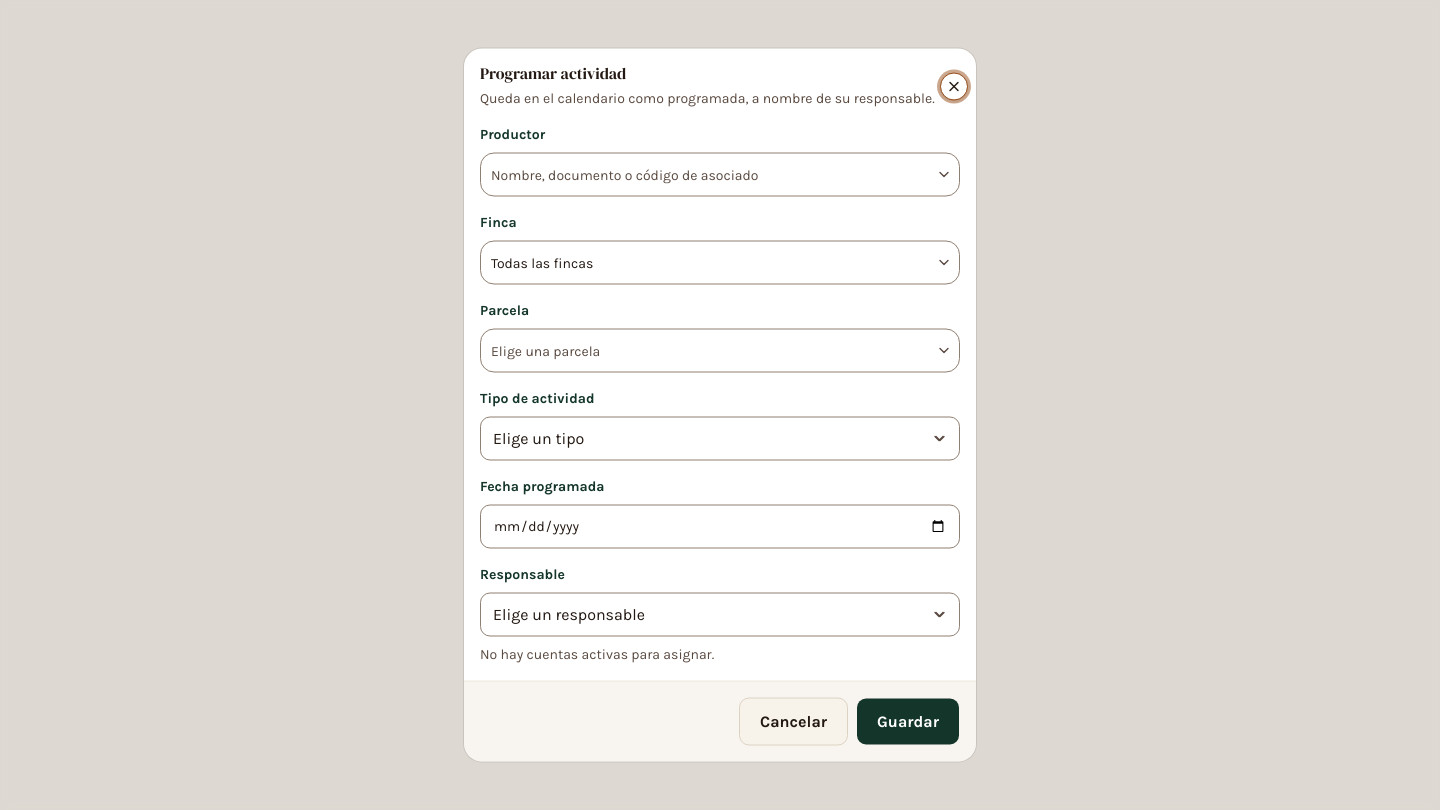
ActivityFormDialog for the technical account › forgets the farm, the plot and the responsible when the producer is cleared
What coordinates should you click on to do the following:
click the dropdown labelled "Productor"
I would click on:
 (706, 174)
Its box is [481,158,932,190].
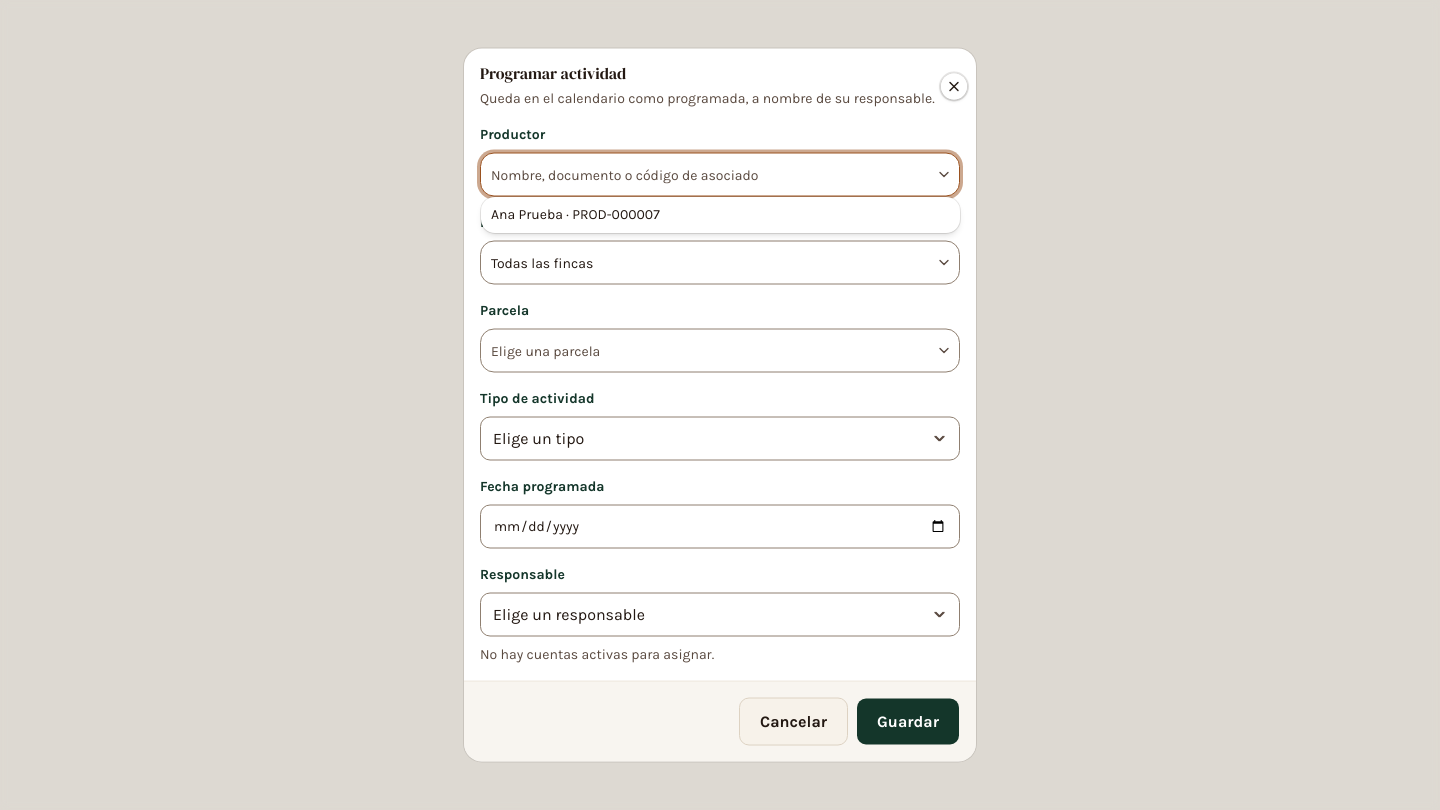
What coordinates should you click on to do the following:
click the option "Ana Prueba · PROD-000007"
I would click on:
 (575, 214)
Its box is [491,206,660,223].
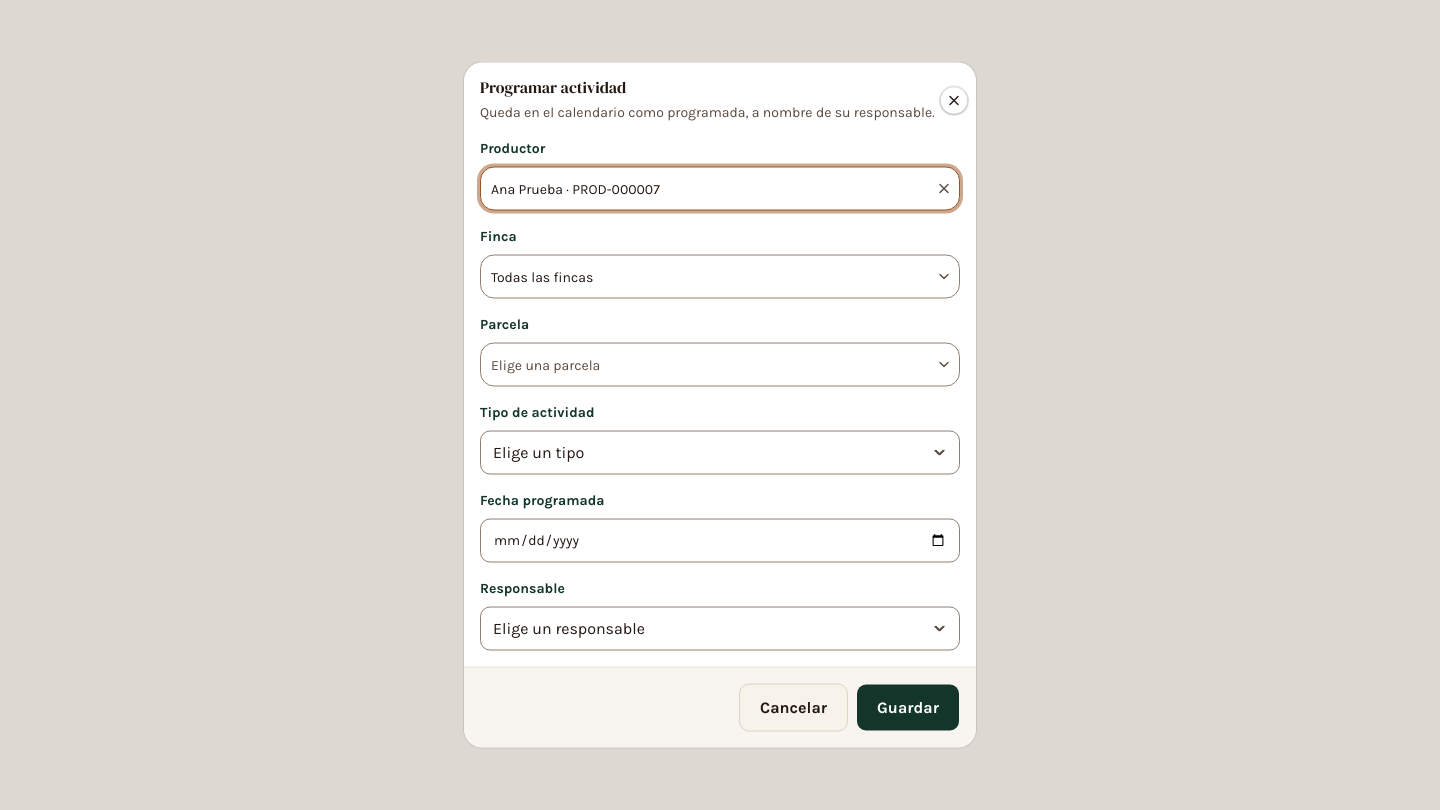
What coordinates should you click on to do the following:
click the dropdown labelled "Finca"
I would click on:
 (706, 276)
Its box is [481,260,932,292].
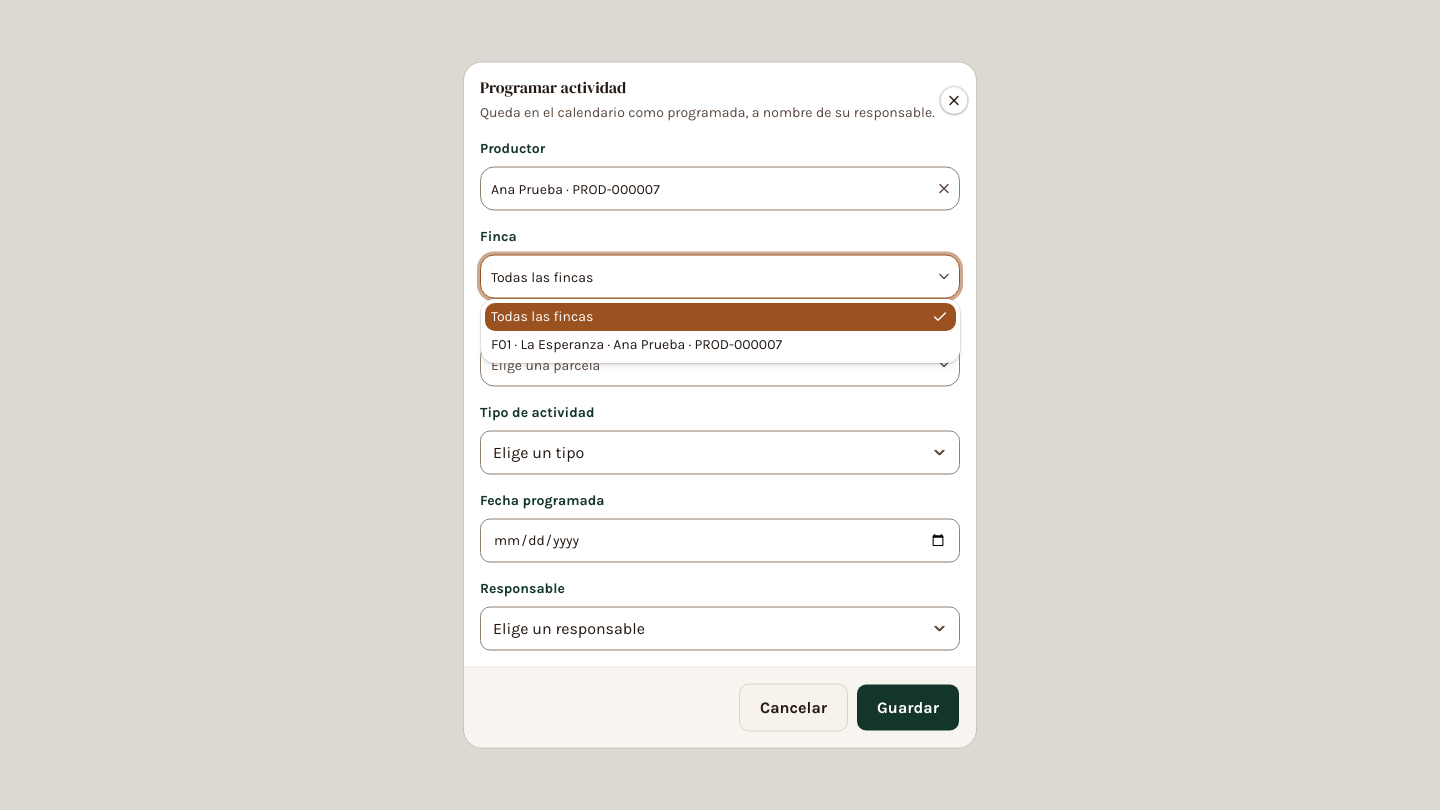
What coordinates should you click on to do the following:
click the option "F01 · La Esperanza · Ana Prueba · PROD-000007"
I would click on:
 (637, 344)
Its box is [491,336,782,353].
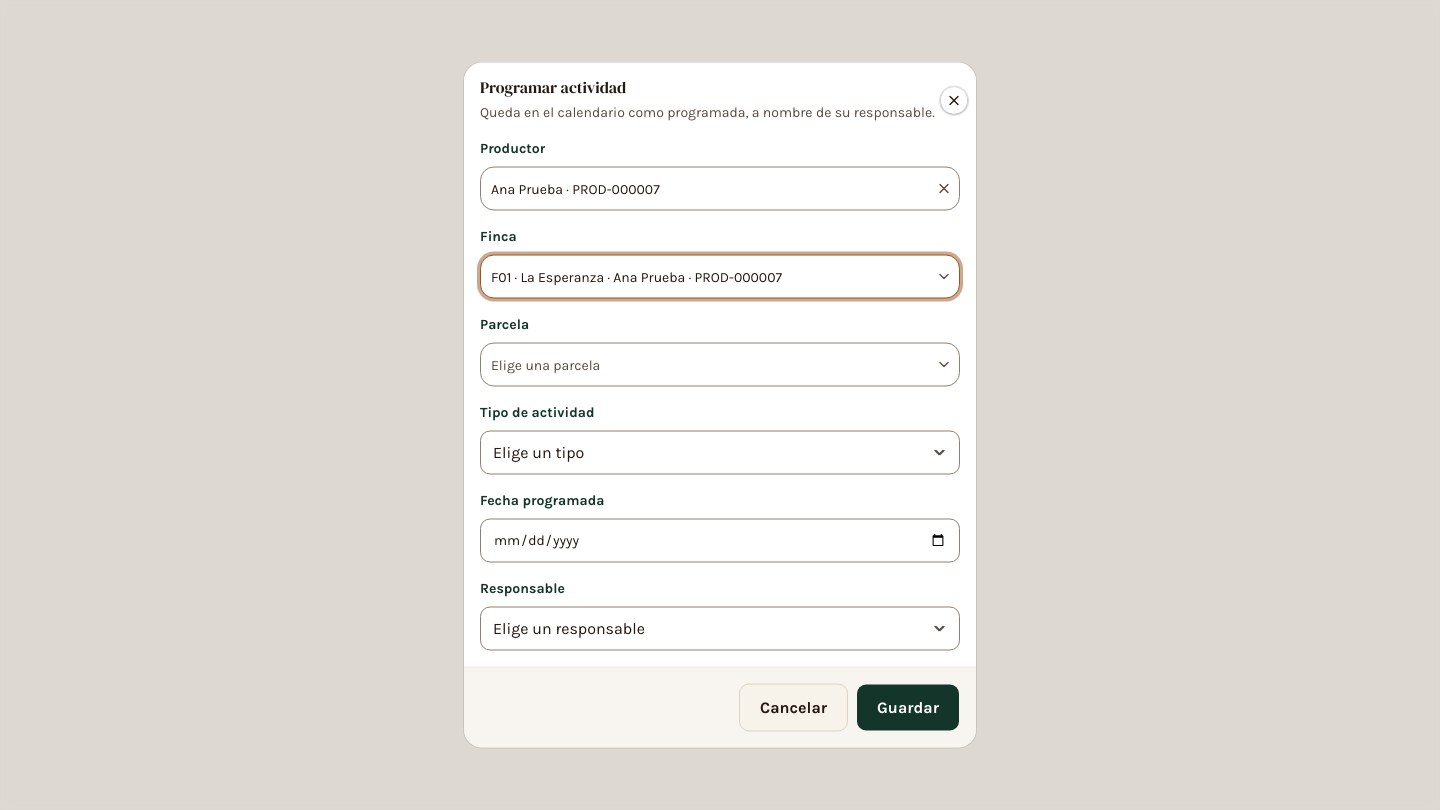
What coordinates should you click on to do the following:
click the button named "Borrar"
I would click on:
 (944, 188)
Its box is [932,176,956,200].
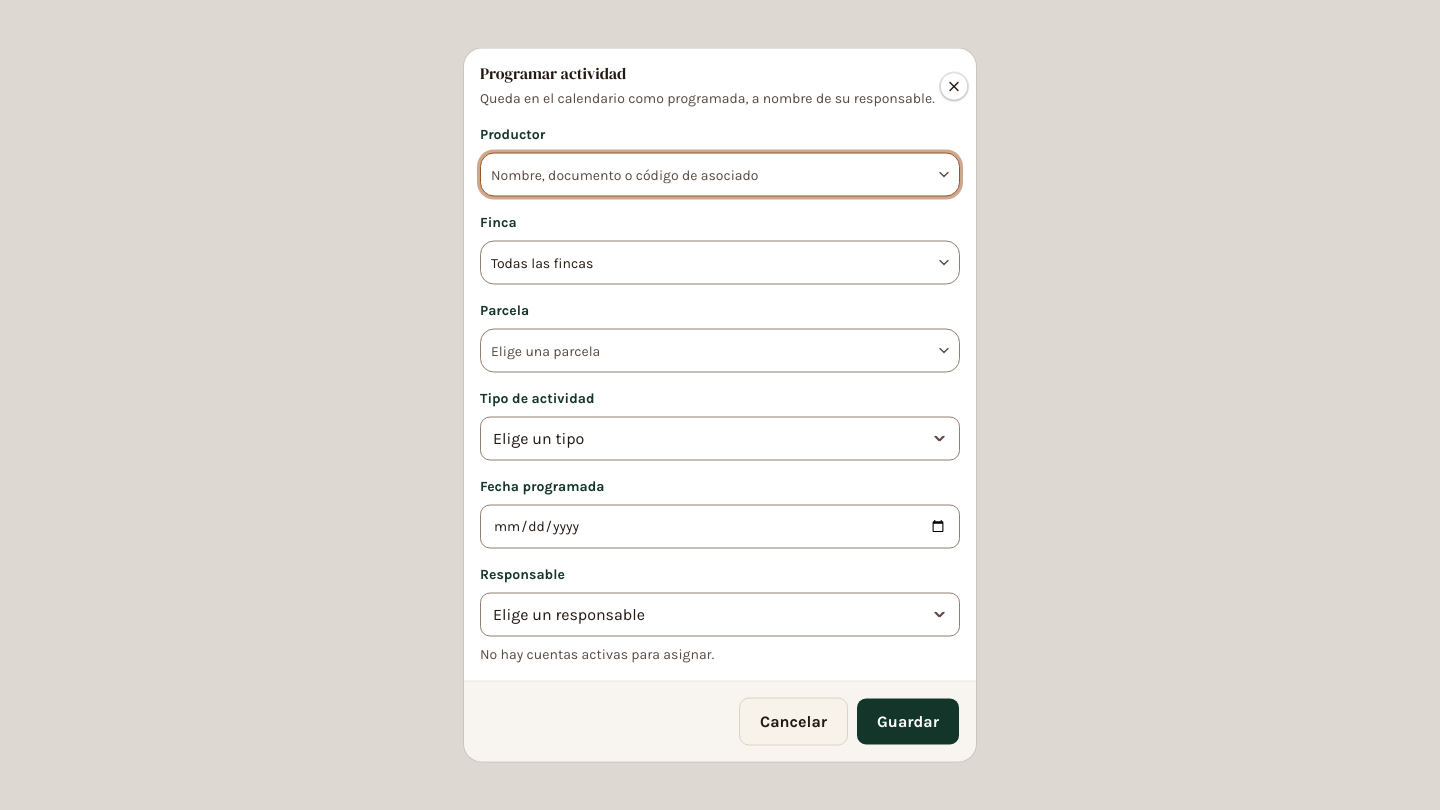
Expected: the dropdown labelled "Parcela" is empty, [481,334,932,366]
Expected: the dropdown labelled "Finca" holds "Todas las fincas", [481,246,932,278]
